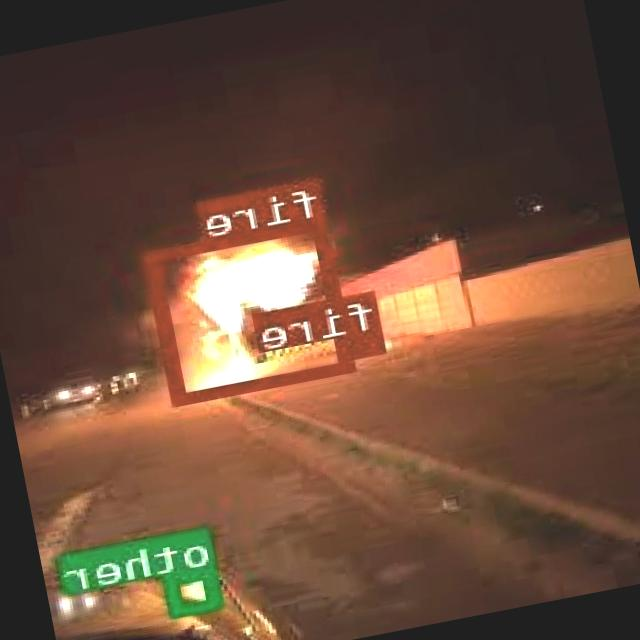fire: (148, 214, 360, 403), (344, 327, 388, 356)
